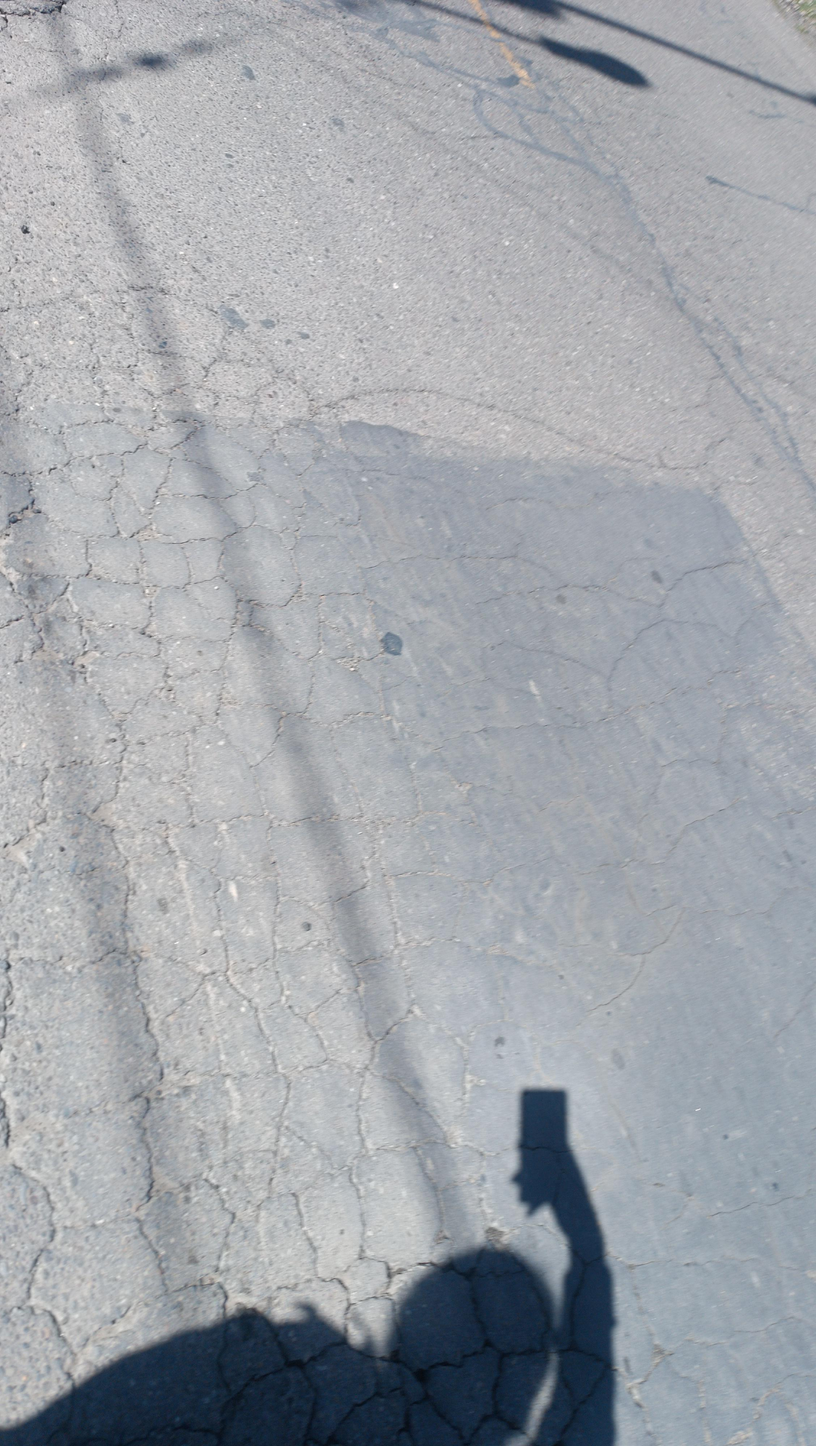GRIETA: (345, 388, 680, 469)
PIEL DE COCODRILO: (0, 271, 814, 1446), (330, 3, 691, 253), (664, 200, 816, 512), (0, 0, 133, 82)
